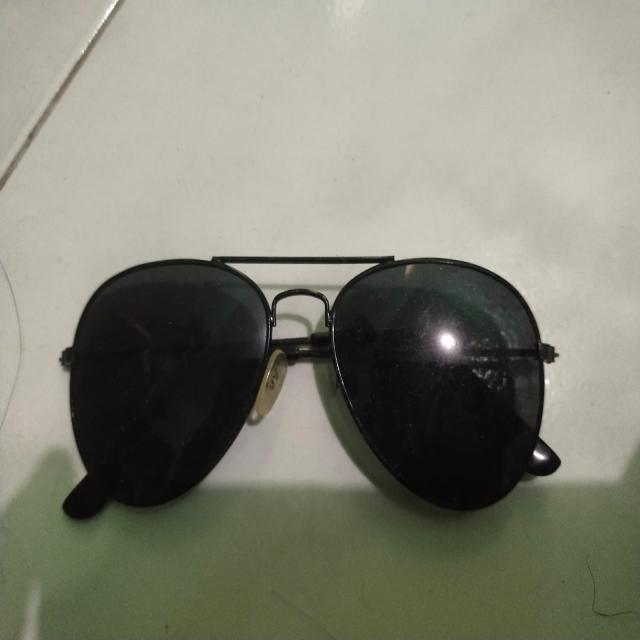kacamata: (34, 166, 611, 592)
